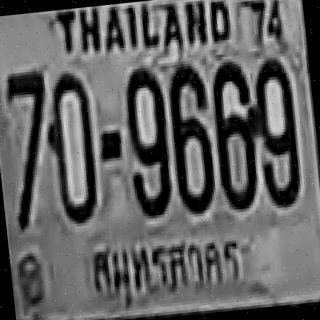N00: (43, 69, 99, 222)
N06: (206, 59, 262, 210), (165, 61, 216, 214)
N07: (4, 68, 51, 160)
N09: (248, 56, 302, 206), (120, 68, 173, 216)
P58: (84, 227, 241, 302)
